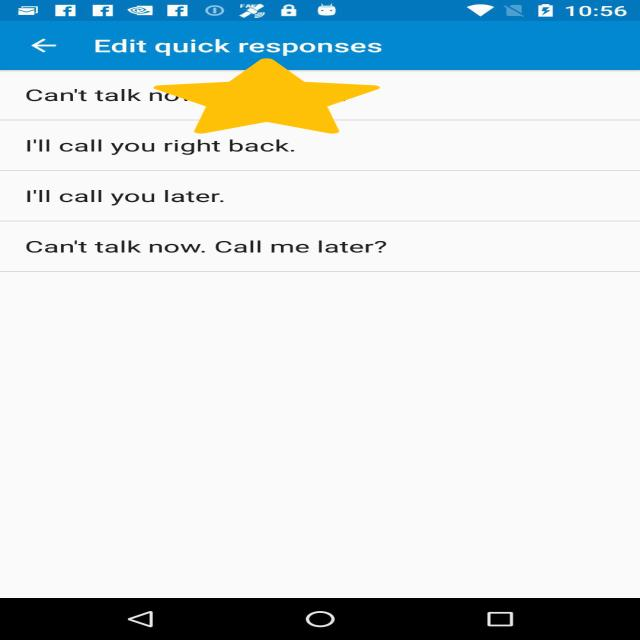forced continuity: (153, 58, 380, 134)
